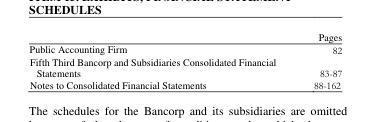table: (28, 29, 341, 90)
table column: (28, 29, 294, 90), (294, 29, 341, 90)
table column header: (28, 29, 341, 42)
table row: (28, 54, 341, 78), (28, 29, 341, 42), (28, 42, 341, 54), (28, 78, 341, 90)
